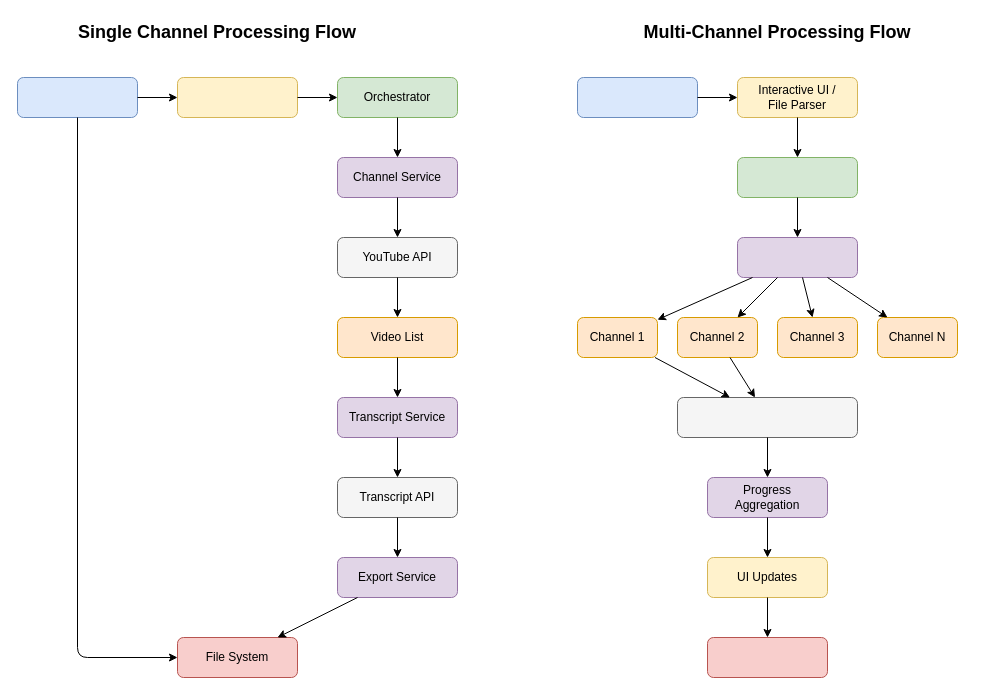
This 995x695 diagram has some shape labels left out. Here are the shapes that lost their labels. From the top down, the centre of each, then its label:
At [77,97]: "User Input".
At [237,97]: "CLI Parser".
At [637,97]: "Batch Input".
At [797,177]: "Channel Validation".
At [797,257]: "Batch Orchestrator".
At [767,417]: "Parallel Processing Pool".
At [767,657]: "Final Report".
